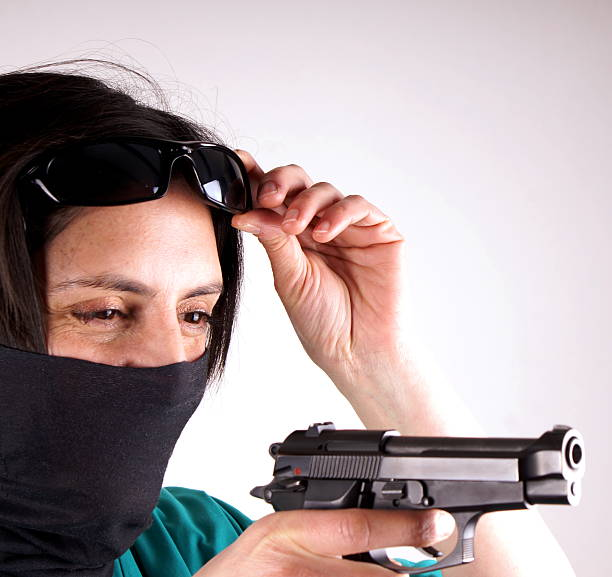gun: (246, 421, 587, 571)
